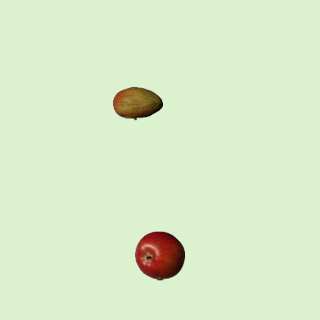Apple Braeburn: (134, 230, 184, 280)
Papaya: (112, 78, 162, 128)
